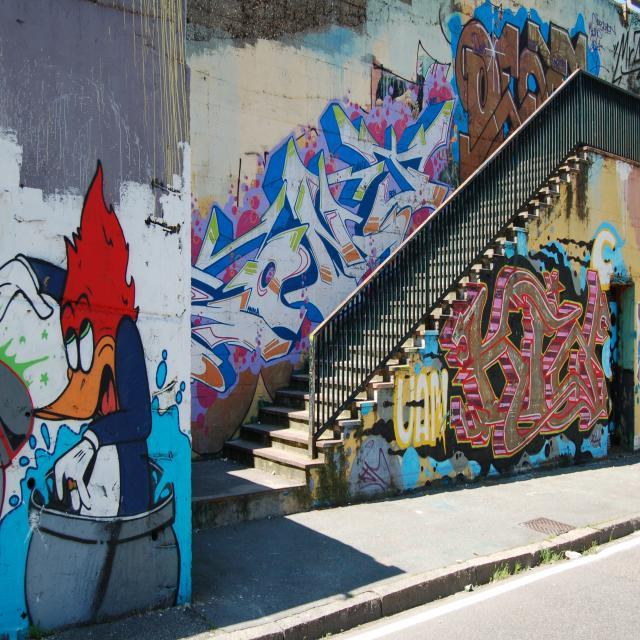-: (190, 42, 458, 414), (0, 161, 188, 639), (441, 265, 612, 462), (455, 18, 587, 178), (394, 361, 450, 452), (611, 29, 640, 84), (588, 11, 616, 53)
